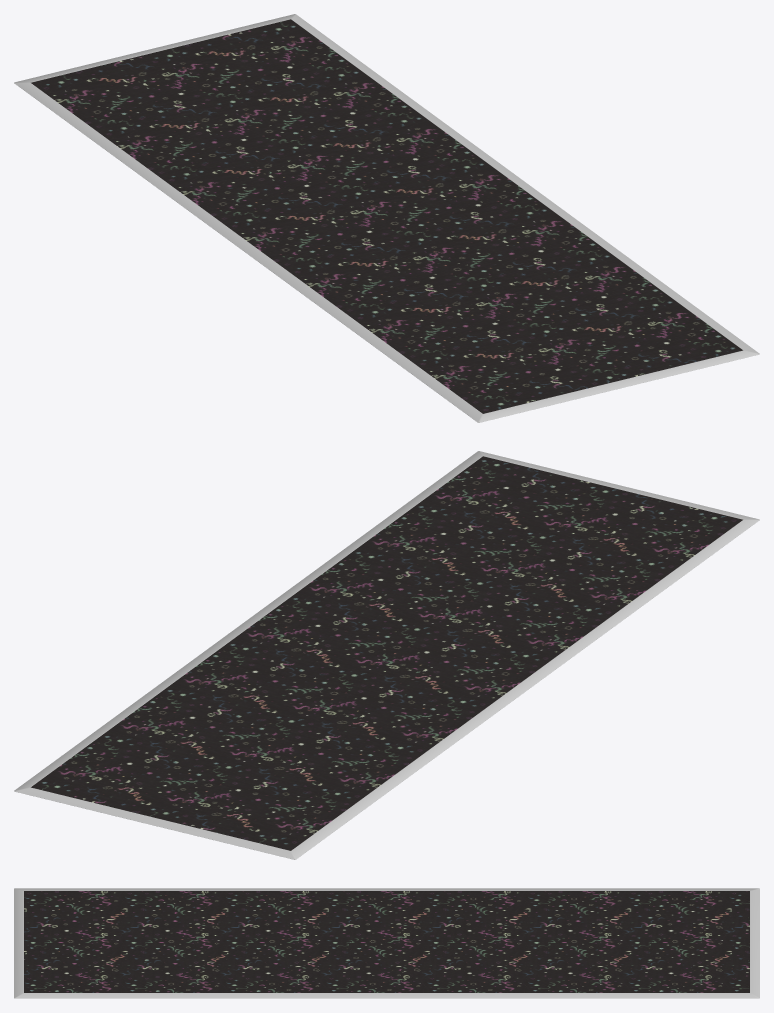
Rendered from SM_Carpets_05a.fbx.
The picture shows the model from 3 angles, top to bottom: view 1: azimuth 30°, elevation 25°; view 2: azimuth 150°, elevation 25°; view 3: azimuth 270°, elevation 25°; orthographic projection. The views are drawn at different scales.
Visible parts, largest first — view 1: SM_Carpets_05a; view 2: SM_Carpets_05a; view 3: SM_Carpets_05a.
Part boxes in pixels (x1,y1,x2,y2): SM_Carpets_05a: (14, 14, 759, 422); SM_Carpets_05a: (14, 451, 759, 859); SM_Carpets_05a: (14, 888, 759, 998).
Bounding box in the file's own units: 260 × 741 × 1.74.
2 materials, 1 textured.
